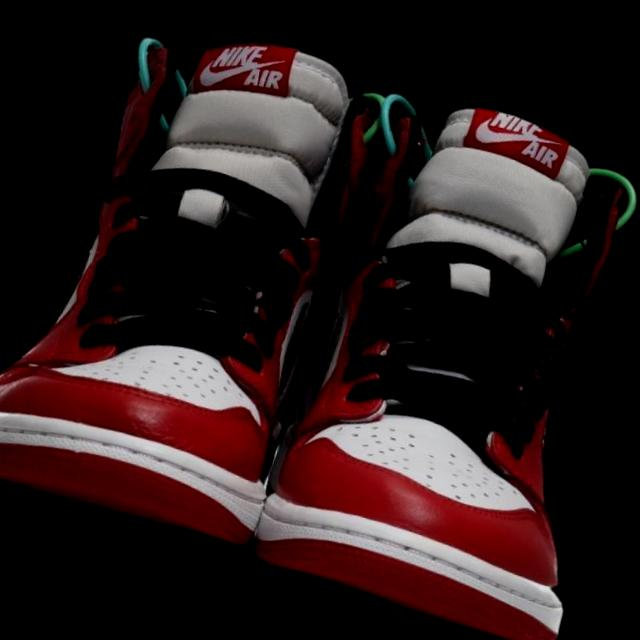nike_original_jordan: (236, 61, 640, 640), (0, 0, 403, 571)
